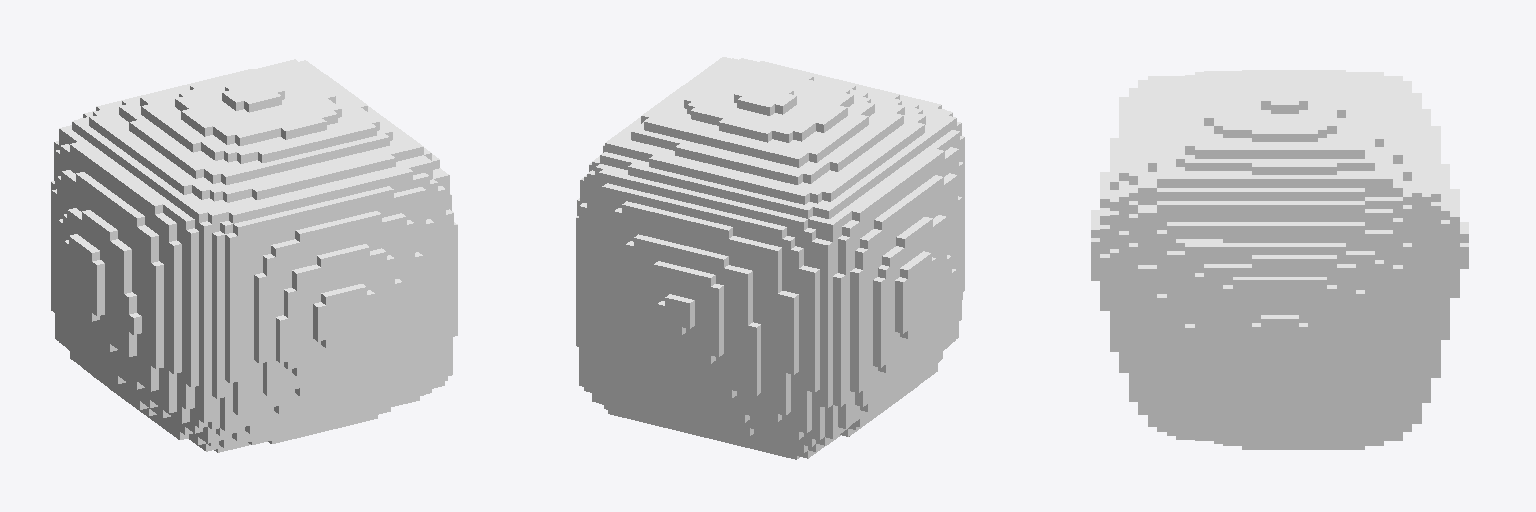
Rendered from moooon.obj.
3 views of the same model, side by side, from view 1: azimuth 30°, elevation 25°; view 2: azimuth 150°, elevation 25°; view 3: azimuth 270°, elevation 25° (orthographic).
Parts seen in each view (by area): view 1: object 1; view 2: object 1; view 3: object 1.
Boxes of the visible parts, <box> form: object 1: <box>51,59,457,452</box>; object 1: <box>576,57,964,459</box>; object 1: <box>1091,70,1468,449</box>.
Size of the model in its own units: 4 by 3.8 by 4.